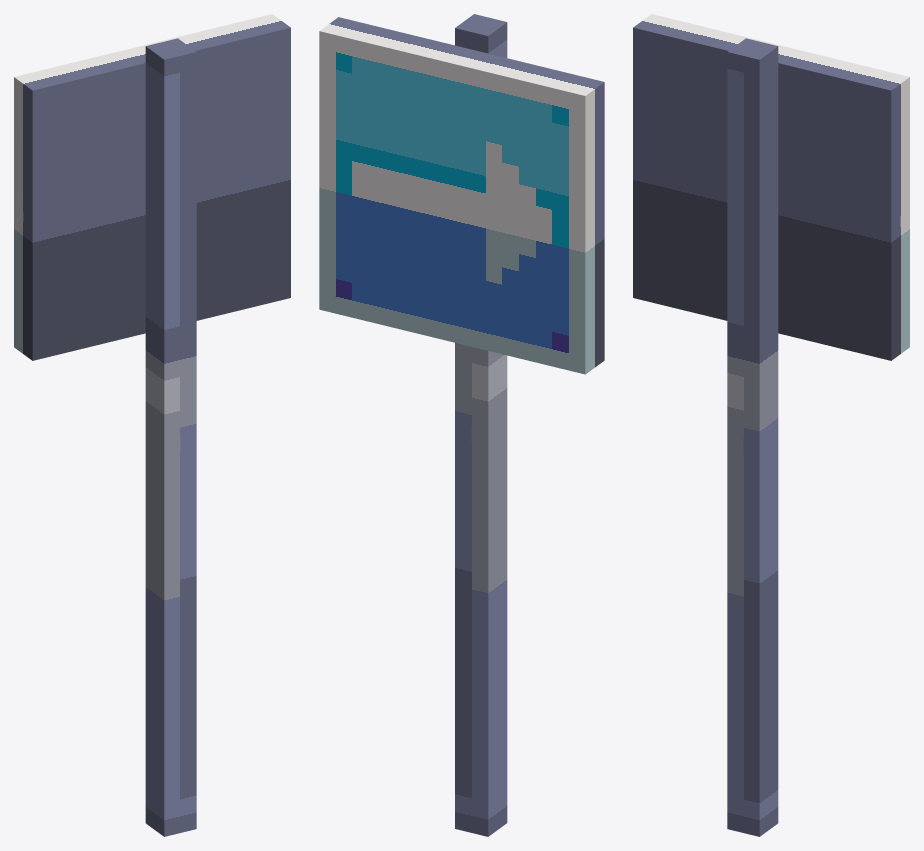
The model's file is directional-street-sign-right.gltf.
3 views of the same model, side by side, from view 1: azimuth 30°, elevation 25°; view 2: azimuth 150°, elevation 25°; view 3: azimuth 330°, elevation 25° (orthographic). The views are drawn at different scales.
Parts seen in each view (by area): view 1: cube (×2); view 2: cube (×2); view 3: cube (×2).
Boxes of the visible parts, x1,y1,x2,y2 form: cube (×2): (14,14,290,836); cube (×2): (319,14,604,836); cube (×2): (633,14,909,836).
Bounding box in the file's own units: 1 × 2.88 × 0.25.
Materials: 1 (1 with a texture image).
